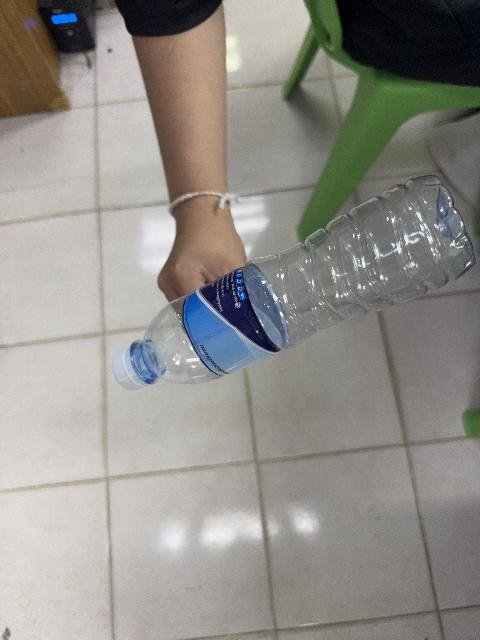bottle: (113, 176, 474, 389)
